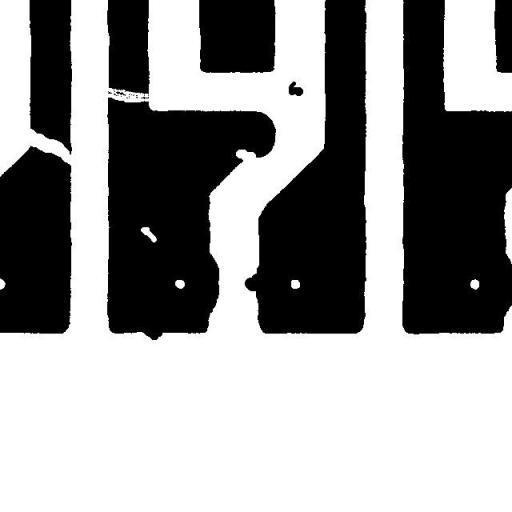copper: (281, 74, 310, 103)
mousebite: (228, 142, 263, 168)
open: (12, 120, 84, 173), (90, 78, 160, 110)
pin-hole: (133, 219, 164, 250)
spur: (237, 266, 270, 298), (134, 320, 170, 347)
